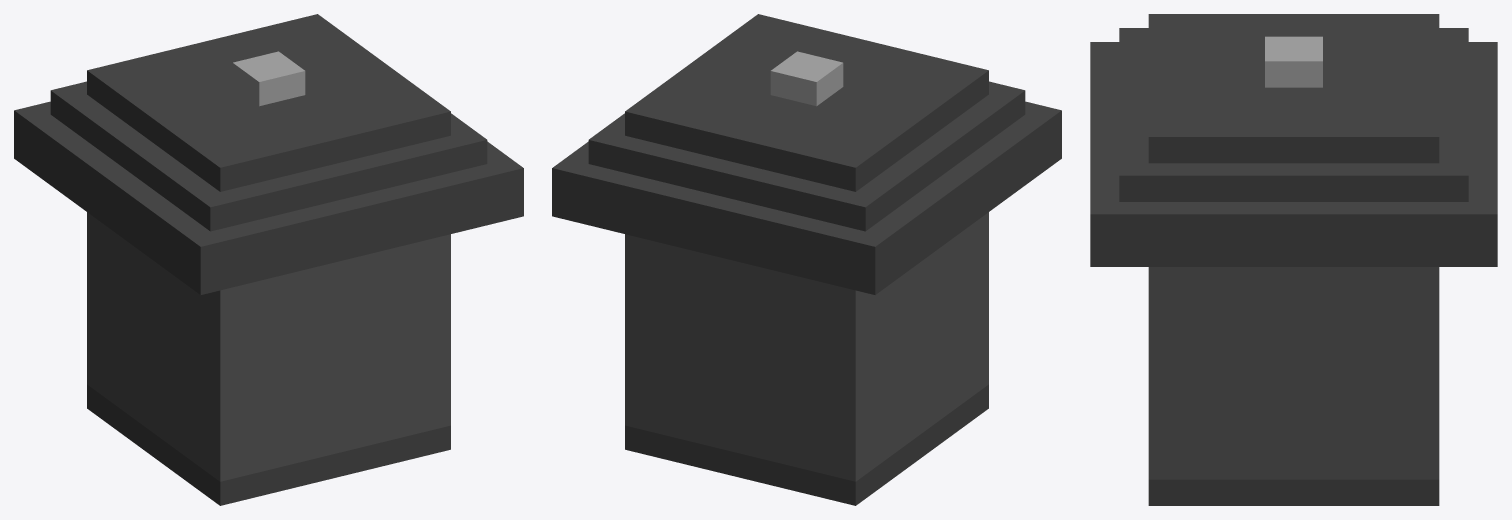
The model's file is salt.obj.
The picture shows the model from 3 angles, left to right: view 1: azimuth 30°, elevation 25°; view 2: azimuth 150°, elevation 25°; view 3: azimuth 270°, elevation 25°; orthographic projection. The views are drawn at different scales.
Size of the model in its own units: 1.4 by 1.5 by 1.4.
Materials: 1 (1 with a texture image).
